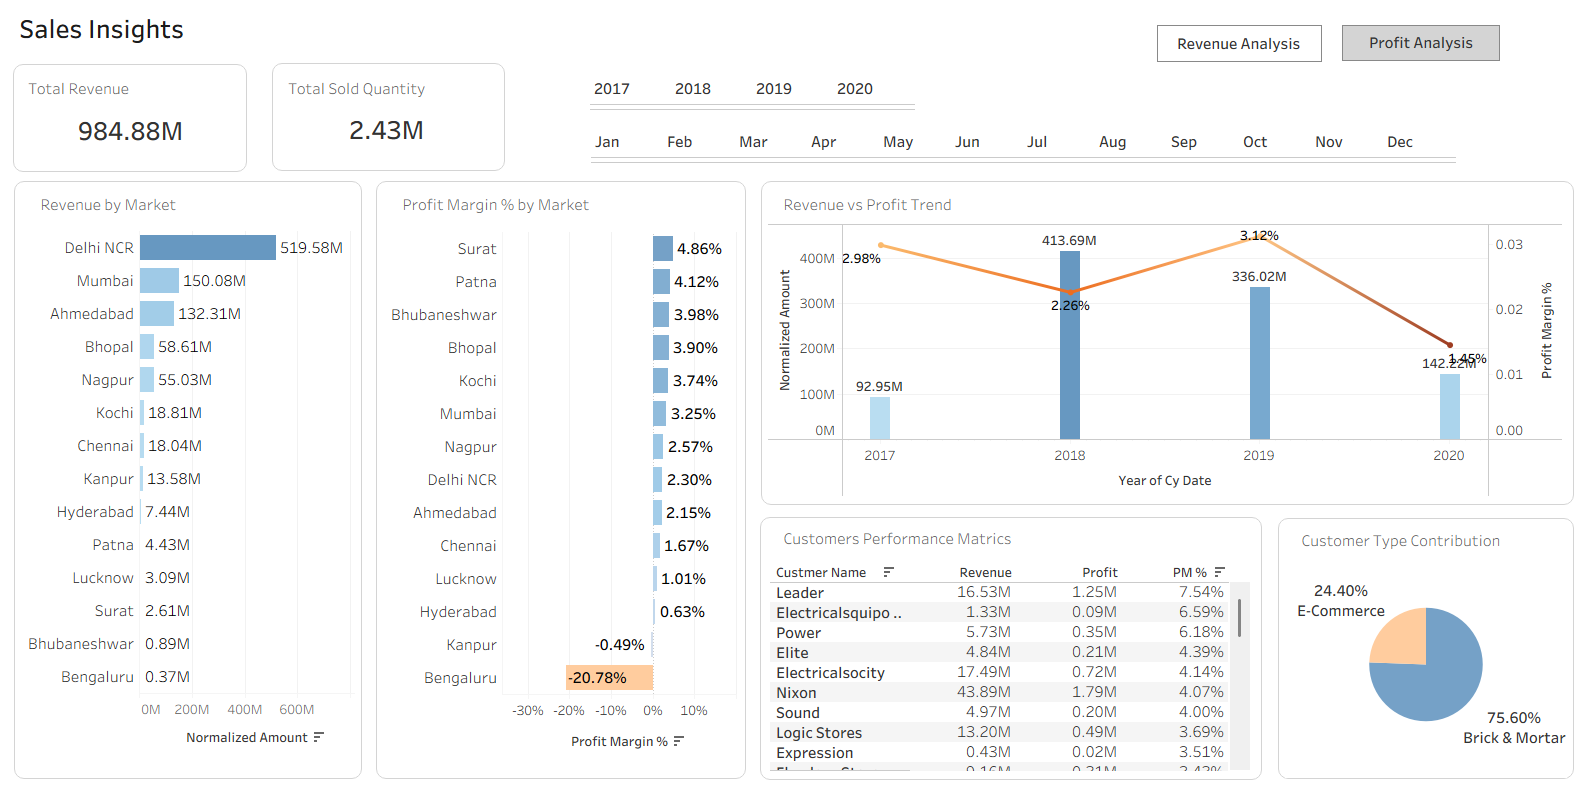

Layout of this report page (visuals, bound fields, positions):
{"tool":"tableau","page":{"name":"Profit Analysis","canvas":[1600,800],"ordinal":0},"visuals":[{"type":"text","box":[21.3,15,219.7,32]},{"type":"dashboard-object","box":[1161.6,28,165.3,37]},{"type":"dashboard-object","box":[1347.2,28,157.9,36]},{"type":"blank","box":[277,66,233,108]},{"type":"blank","box":[18.1,67,233.6,108]},{"type":"worksheet","title":"year","mark":"Automatic","cols":["cy_date"],"box":[595.2,75,498.1,54]},{"type":"text","box":[29.9,76,115.2,30]},{"type":"text","box":[290,76,172,30]},{"type":"worksheet","title":"Sales Qty","mark":"Automatic","box":[318,110,168,65]},{"type":"worksheet","title":"Total Revenue","mark":"Automatic","box":[79,113,151,64]},{"type":"worksheet","title":"month","mark":"Automatic","cols":["cy_date"],"box":[596.3,128,945.1,59]},{"type":"blank","box":[19,184,348,598]},{"type":"blank","box":[381,184,370,598]},{"type":"blank","box":[766,184,813,324]},{"type":"text","box":[42,192,165,30]},{"type":"text","box":[404,192,272,30]},{"type":"text","box":[831,192,321,30]},{"type":"worksheet","title":"Profit vs Revenue","mark":"Automatic","rows":["Calculation_1414263886893056","Calculation_0681440793772033"],"cols":["cy_date"],"box":[773,227,795,273]},{"type":"worksheet","title":"Rev by Mark","mark":"Automatic","rows":["markets_name"],"cols":["Calculation_1414263886893056"],"box":[32,234,328,541]},{"type":"worksheet","title":"pm % by mark","mark":"Automatic","rows":["markets_name"],"cols":["Calculation_0681440793772033"],"box":[387,235,355,540]},{"type":"blank","box":[765,520,502,263]},{"type":"blank","box":[1283,521,296,261]},{"type":"text","box":[785,526,277,30]},{"type":"text","box":[1303,528,221,30]},{"type":"worksheet","title":"Cust type","mark":"Pie","box":[1290,554,282,227]},{"type":"worksheet","title":"Customer table","mark":"Automatic","rows":["custmer_name"],"box":[775,565,482,209]}]}

Visuals, with their boxes in screenshot pixels (x1, y1, x2, y2), scaled from the page's 1600x800 canvas onto the 1590x791 screenshot:
text: (21, 15, 239, 46)
dashboard-object: (1154, 28, 1319, 64)
dashboard-object: (1339, 28, 1496, 63)
blank: (275, 65, 507, 172)
blank: (18, 66, 250, 173)
"year" worksheet: (591, 74, 1086, 128)
text: (30, 75, 144, 105)
text: (288, 75, 459, 105)
"Sales Qty" worksheet: (316, 109, 483, 173)
"Total Revenue" worksheet: (79, 112, 229, 175)
"month" worksheet: (593, 127, 1532, 185)
blank: (19, 182, 365, 773)
blank: (379, 182, 746, 773)
blank: (761, 182, 1569, 502)
text: (42, 190, 206, 220)
text: (401, 190, 672, 220)
text: (826, 190, 1145, 220)
"Profit vs Revenue" worksheet: (768, 224, 1558, 494)
"Rev by Mark" worksheet: (32, 231, 358, 766)
"pm % by mark" worksheet: (385, 232, 737, 766)
blank: (760, 514, 1259, 774)
blank: (1275, 515, 1569, 773)
text: (780, 520, 1055, 550)
text: (1295, 522, 1514, 552)
"Cust type" worksheet (Pie marks): (1282, 548, 1562, 772)
"Customer table" worksheet: (770, 559, 1249, 765)
